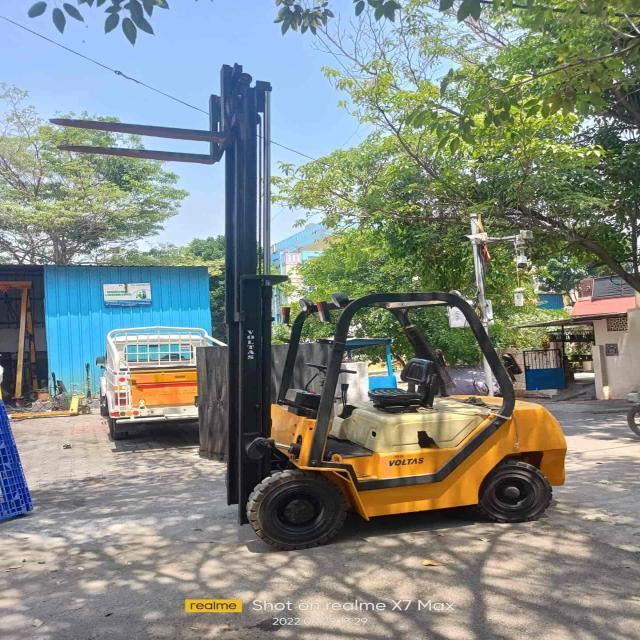forklift: (185, 270, 586, 552)
